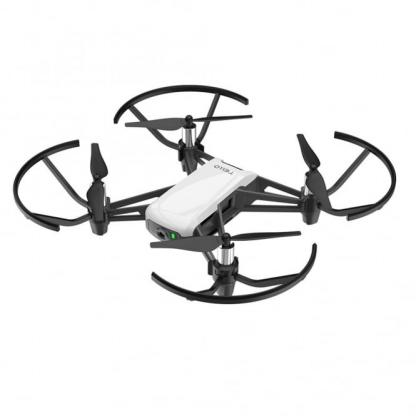drone: (19, 86, 408, 316)
